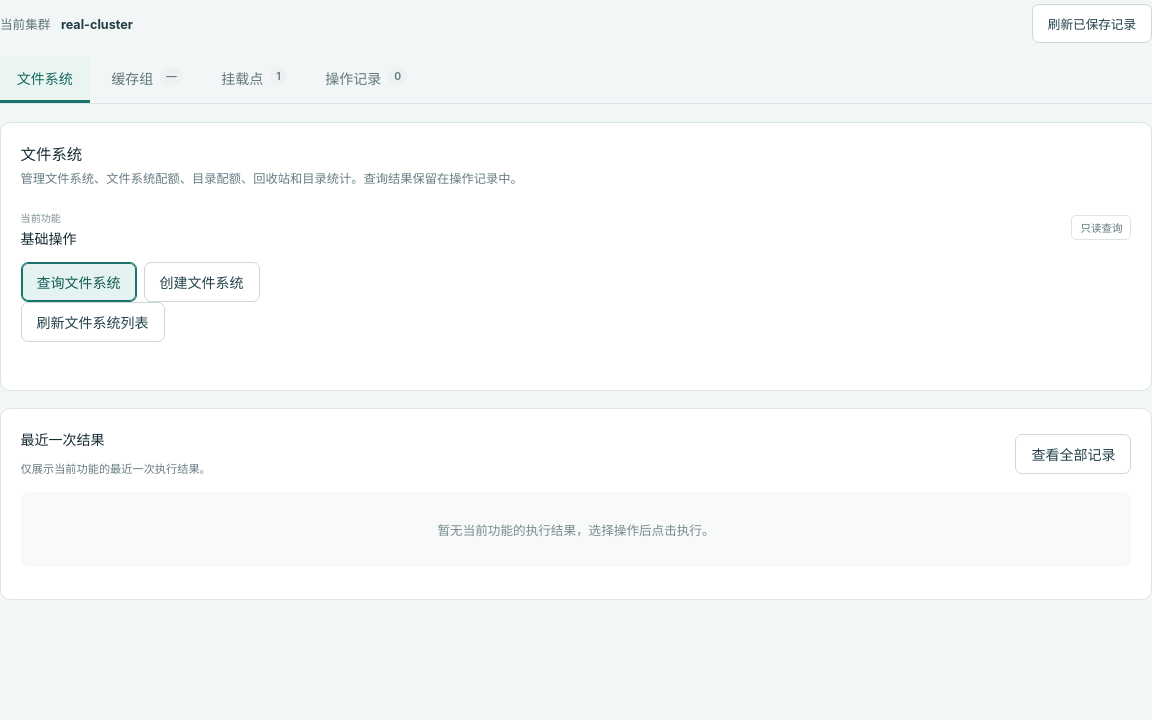
Scenario: cache member form initializes defaults supplied by the operation catalog
The width and height of the screenshot is (1152, 720).
Click the button "缓存组 —" at (147, 80), box [94,56,200,103]
(page scrolled)
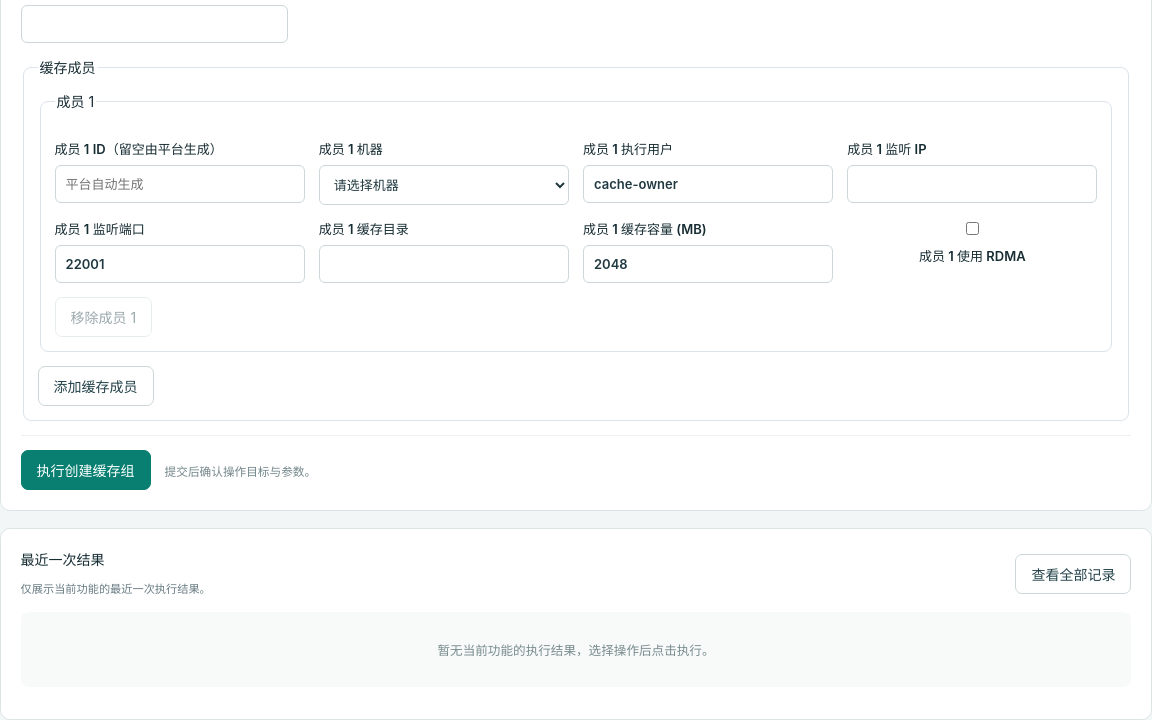
Result: the field labelled "成员 1 执行用户" holds "cache-owner" at [583,165,833,203]
Result: the number field labelled "成员 1 监听端口" holds "22001" at [55,245,305,283]
Click the button "添加缓存成员" at (96, 386), box [38,366,154,406]
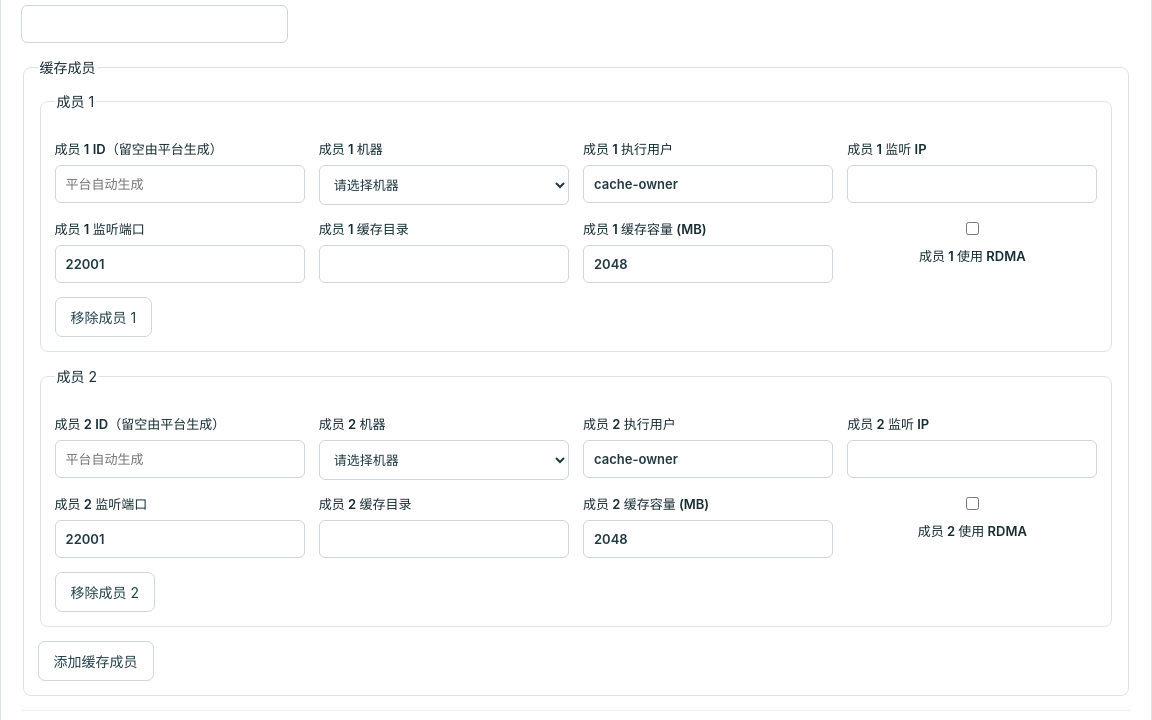
Result: the number field labelled "成员 2 缓存容量 (MB)" holds "2048" at [583,520,833,558]
